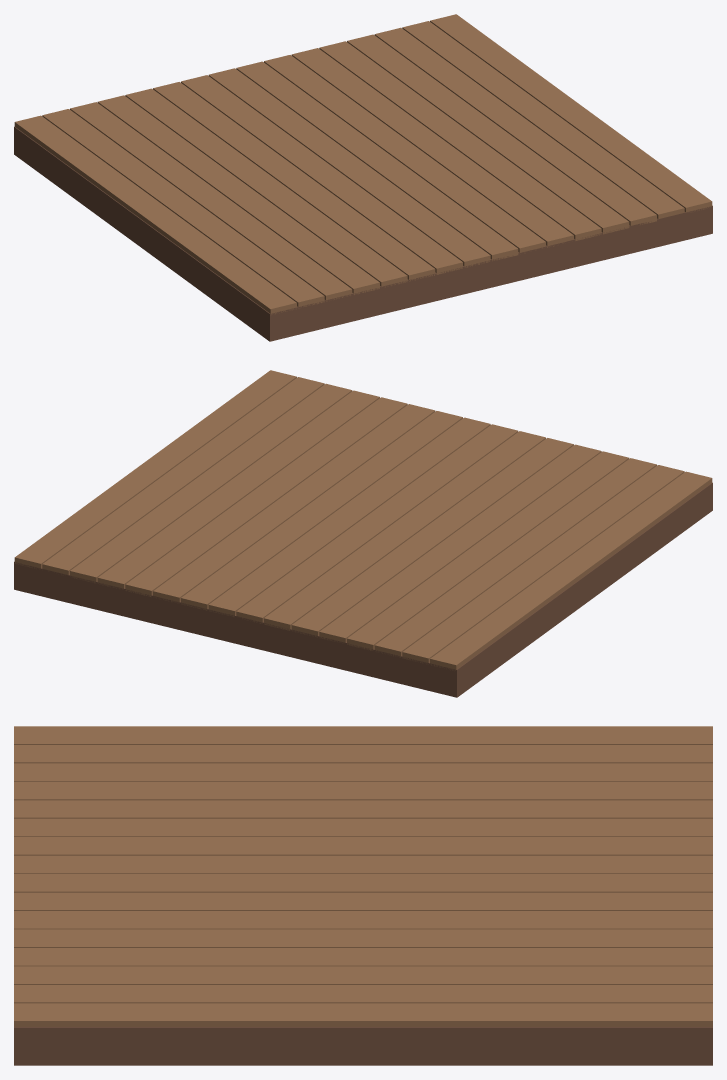
Rendered from tavern_floor_dark.glb.
3 renders of one model, top to bottom at view 1: azimuth 30°, elevation 25°; view 2: azimuth 150°, elevation 25°; view 3: azimuth 270°, elevation 25°, orthographic. The views are drawn at different scales.
Parts seen in each view (by area): view 1: tavern_floor_dark_Mesh; view 2: tavern_floor_dark_Mesh; view 3: tavern_floor_dark_Mesh.
Part boxes in pixels (x1,y1,x2,y2): tavern_floor_dark_Mesh: (14, 14, 712, 341); tavern_floor_dark_Mesh: (14, 370, 712, 697); tavern_floor_dark_Mesh: (14, 726, 712, 1065).
Size of the model in its own units: 4 by 0.2795 by 4.
